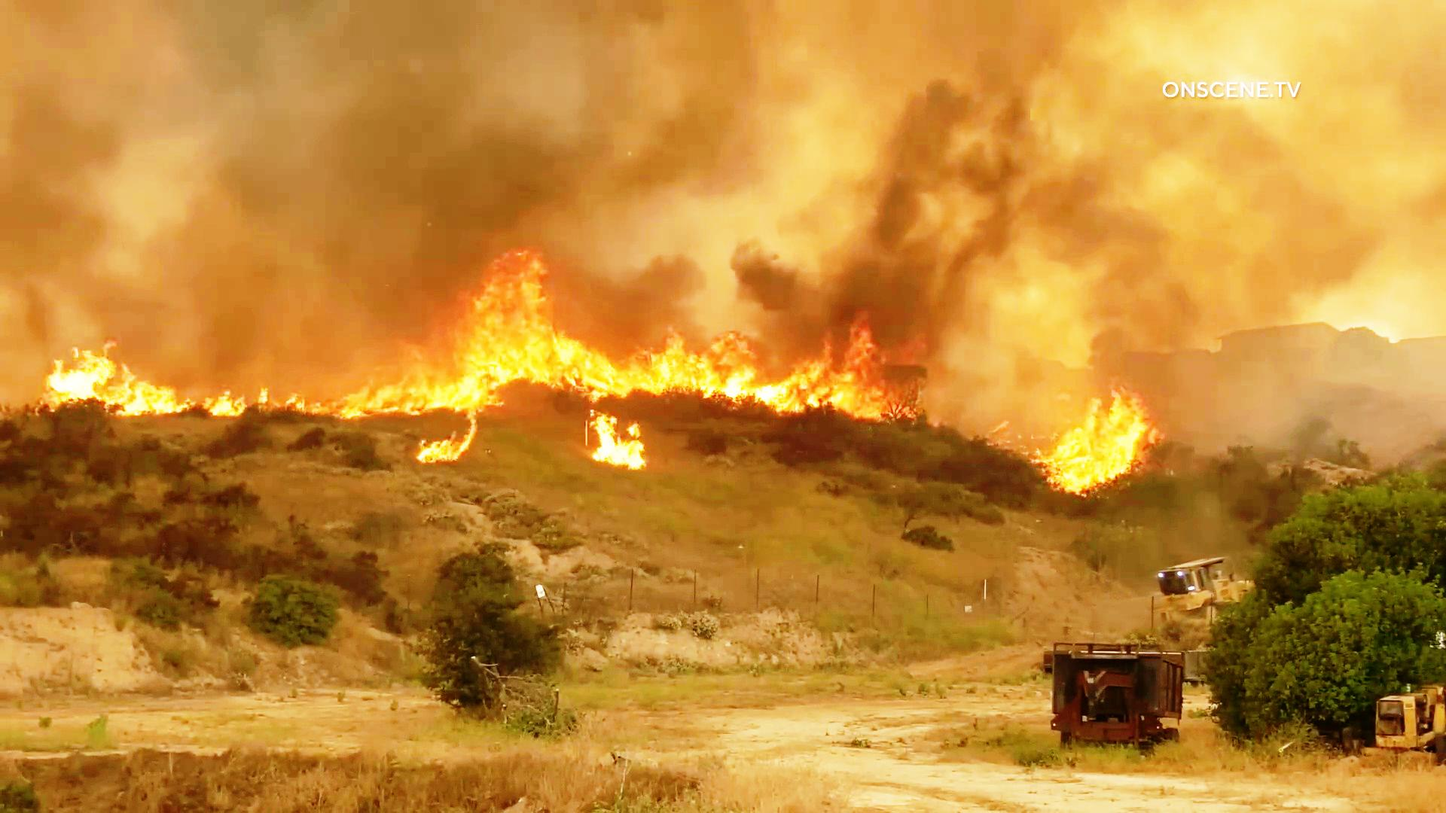fire: (313, 236, 561, 423), (492, 318, 927, 414), (1014, 388, 1149, 500)
smoke: (705, 30, 1014, 279)
